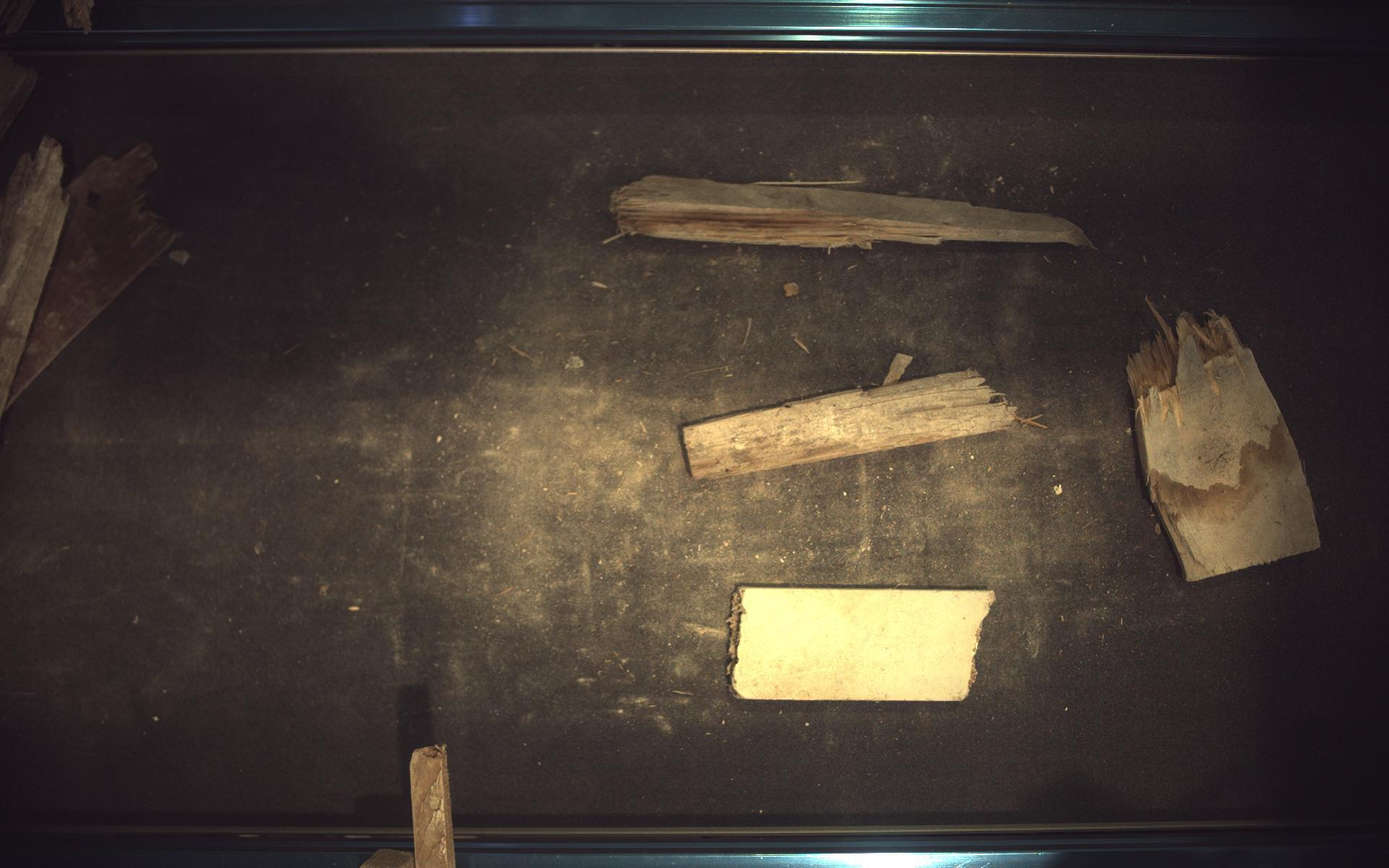wood: (1130, 297, 1323, 582), (6, 143, 177, 406), (683, 370, 1018, 479), (611, 174, 1093, 247), (733, 590, 997, 702), (1, 137, 67, 415), (1, 51, 35, 137)
